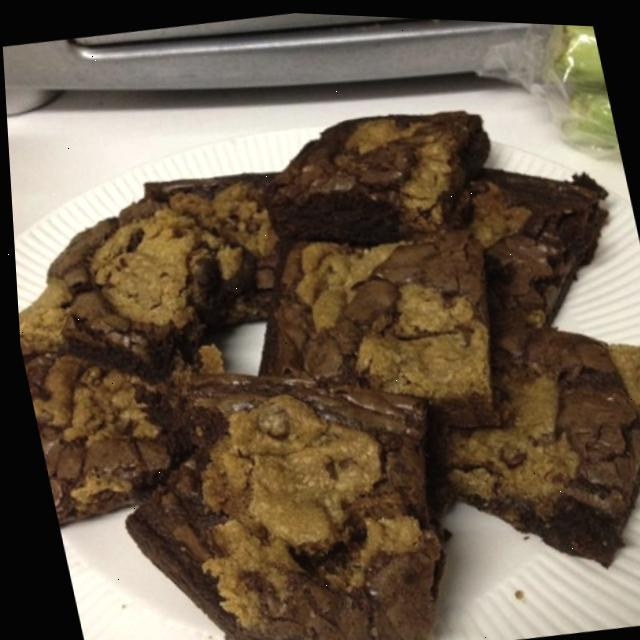蛋糕甜品: (1, 17, 640, 640)
